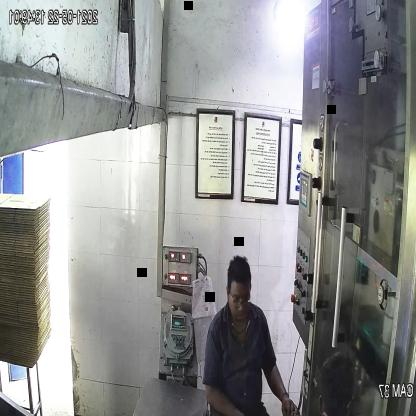goggles: (226, 286, 256, 311)
